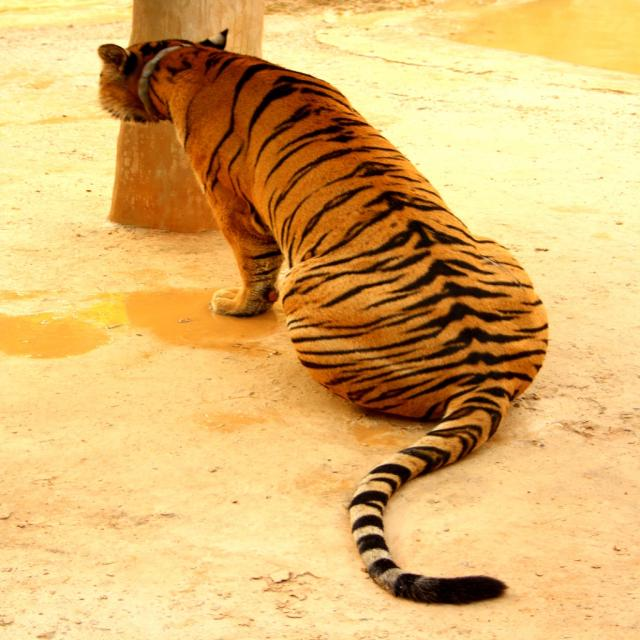Tiger: (83, 25, 550, 608)
